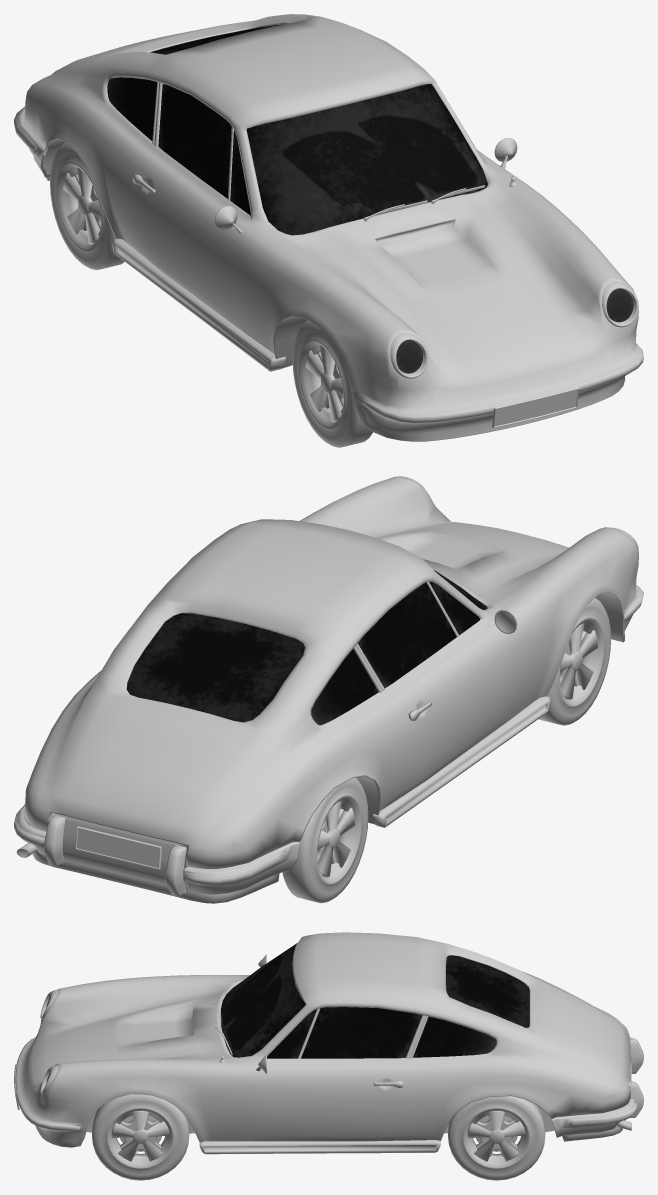
The model's file is Porsche.dae.
3 views of the same model, one above another, from view 1: azimuth 30°, elevation 25°; view 2: azimuth 150°, elevation 25°; view 3: azimuth 270°, elevation 25° (orthographic). The views are drawn at different scales.
Parts seen in each view (by area): view 1: Porsche911_Game_Porsche911_0, Porsche911_Game_Porsche911_Windows_0, Porsche911_Wheel_FR_Porsche911_0, Porsche911_Wheel_BR_Porsche911_0; view 2: Porsche911_Game_Porsche911_0, Porsche911_Game_Porsche911_Windows_0, Porsche911_Wheel_BR_Porsche911_0, Porsche911_Wheel_FR_Porsche911_0; view 3: Porsche911_Game_Porsche911_0, Porsche911_Game_Porsche911_Windows_0, Porsche911_Wheel_FL_Porsche911_0, Porsche911_Wheel_BL_Porsche911_0.
Part boxes in pixels (x1,y1,x2,y2): Porsche911_Game_Porsche911_0: (14,14,643,441); Porsche911_Game_Porsche911_Windows_0: (107,24,633,373); Porsche911_Wheel_FR_Porsche911_0: (292,320,372,447); Porsche911_Wheel_BR_Porsche911_0: (50,142,124,269); Porsche911_Game_Porsche911_0: (14,476,643,903); Porsche911_Game_Porsche911_Windows_0: (127,570,487,725); Porsche911_Wheel_BR_Porsche911_0: (282,777,368,903); Porsche911_Wheel_FR_Porsche911_0: (539,598,610,725); Porsche911_Game_Porsche911_0: (14,932,643,1154); Porsche911_Game_Porsche911_Windows_0: (46,943,529,1082); Porsche911_Wheel_FL_Porsche911_0: (92,1094,189,1180); Porsche911_Wheel_BL_Porsche911_0: (448,1096,545,1180).
Bounding box in the file's own units: 393 × 300 × 966.
